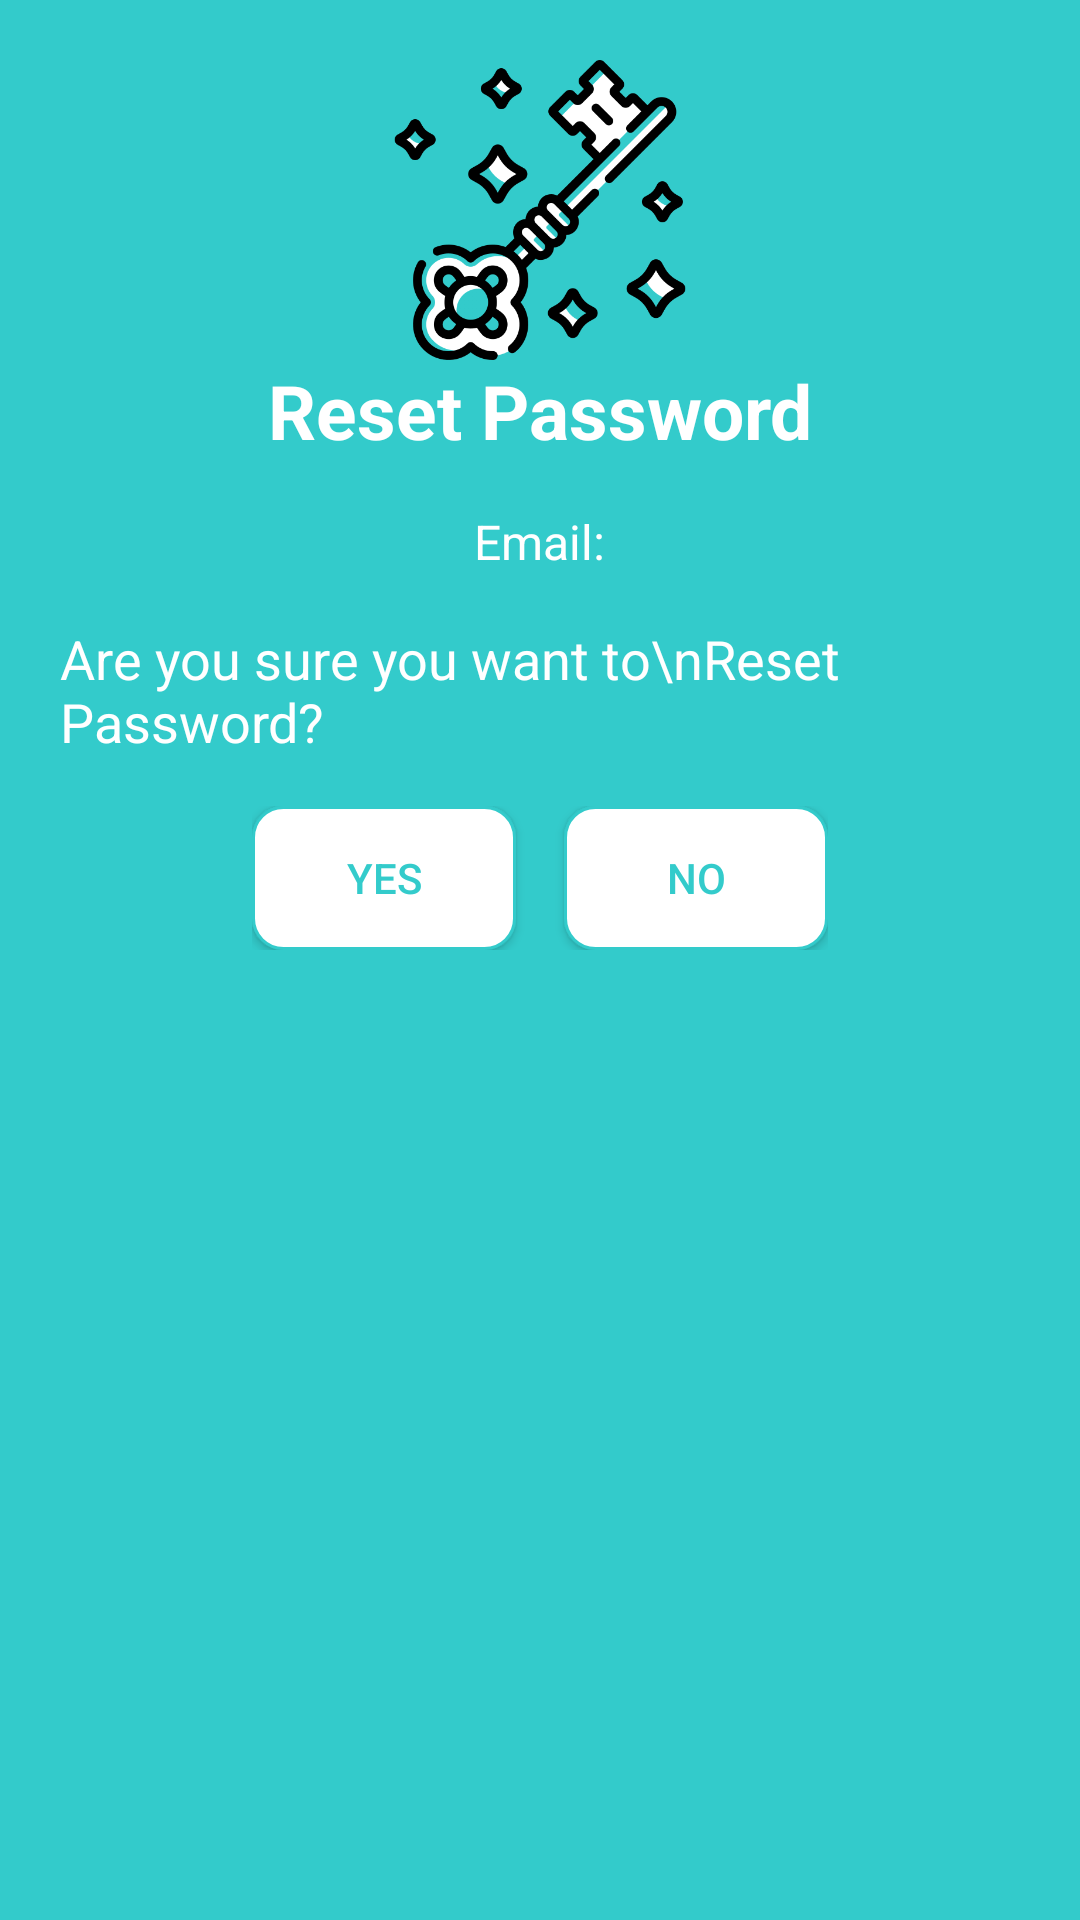

Where icons sit on this 1080px×1920px app screen, as {"left": x1, "top": y1, "right": x2, "bottom": y2}:
key: {"left": 394, "top": 60, "right": 686, "bottom": 360}
